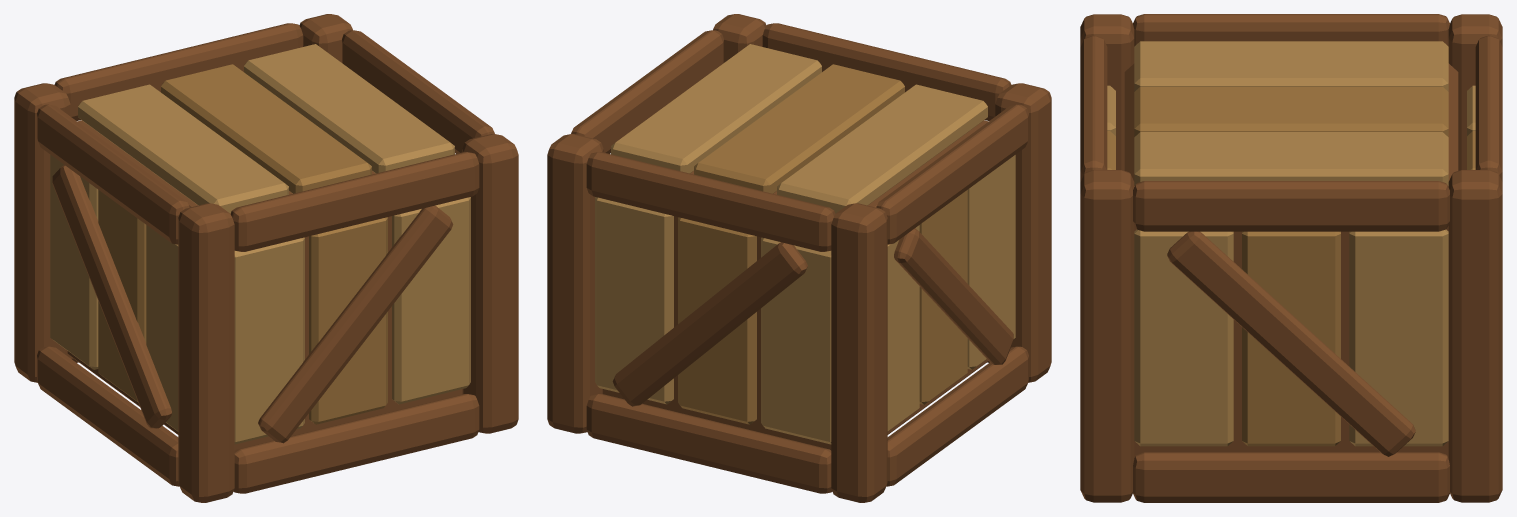
The model's file is crate-wood.glb.
3 views of the same model, side by side, from view 1: azimuth 30°, elevation 25°; view 2: azimuth 150°, elevation 25°; view 3: azimuth 270°, elevation 25° (orthographic). The views are drawn at different scales.
Visible parts, largest first — view 1: mesh_crate_wood; view 2: mesh_crate_wood; view 3: mesh_crate_wood.
Boxes of the visible parts, left/top/right/bottom form: mesh_crate_wood: left=14, top=14, right=518, bottom=502; mesh_crate_wood: left=547, top=14, right=1051, bottom=502; mesh_crate_wood: left=1080, top=14, right=1502, bottom=502.
Bounding box in the file's own units: 0.86 × 0.72 × 0.86.
